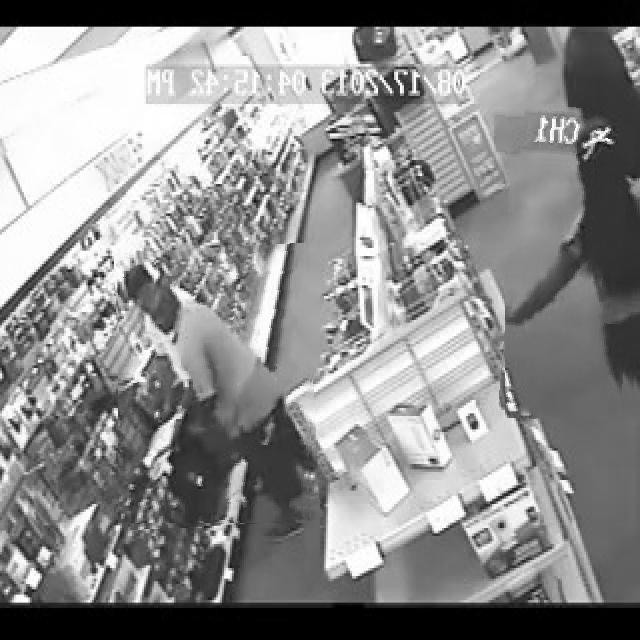Normal: (118, 253, 311, 523), (505, 104, 640, 418)
